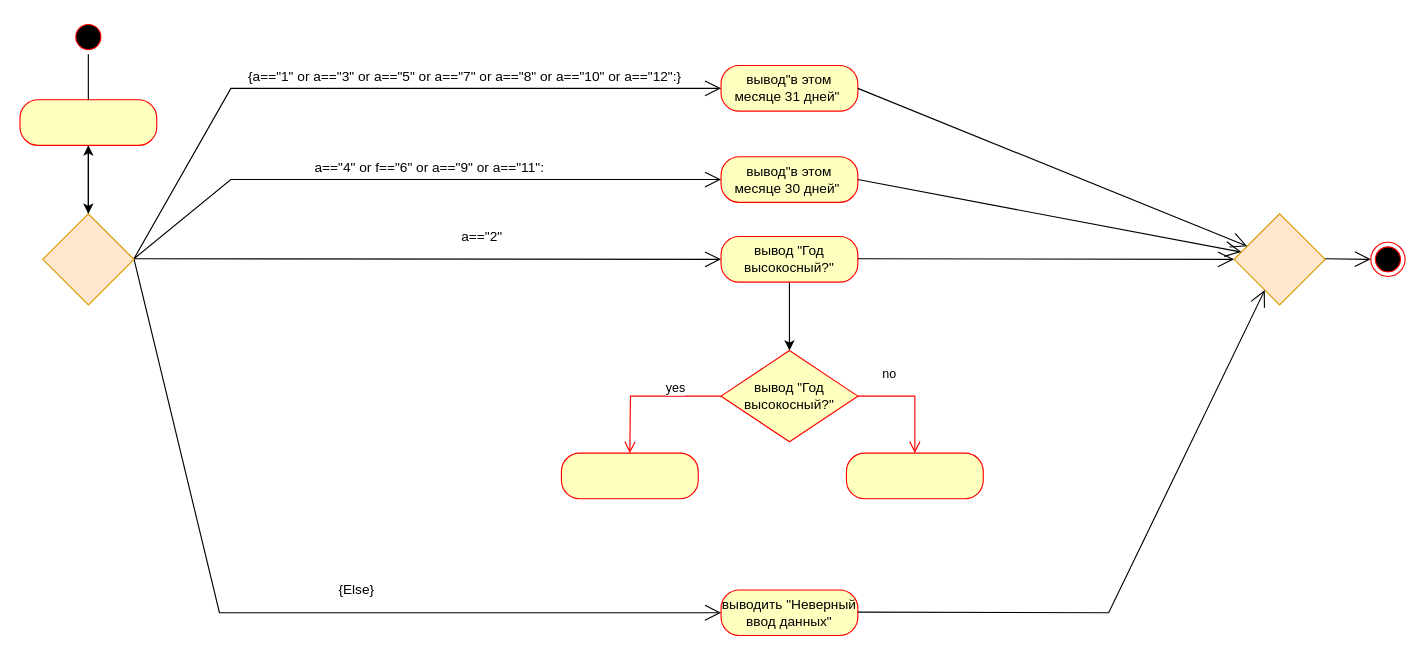
The diagram is 1425 pixels wide and 656 high, and some of its shapes have lost their labels. The centre of each missing label's shape, as x and y in pixels:
вывод "Введите номер месяца": (88,122)
вывод"в этом месяце 28 дней": (914,475)
вывод"в этом месяце 29 дней": (629,475)
